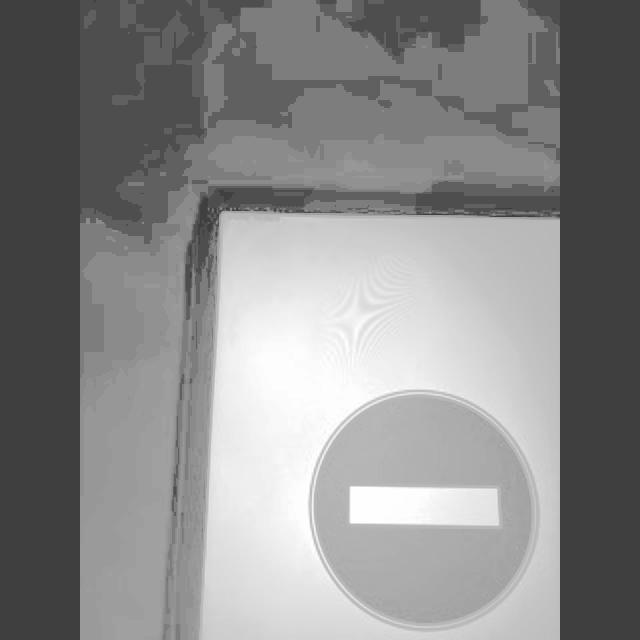NO ENTRY: (313, 388, 537, 632)
